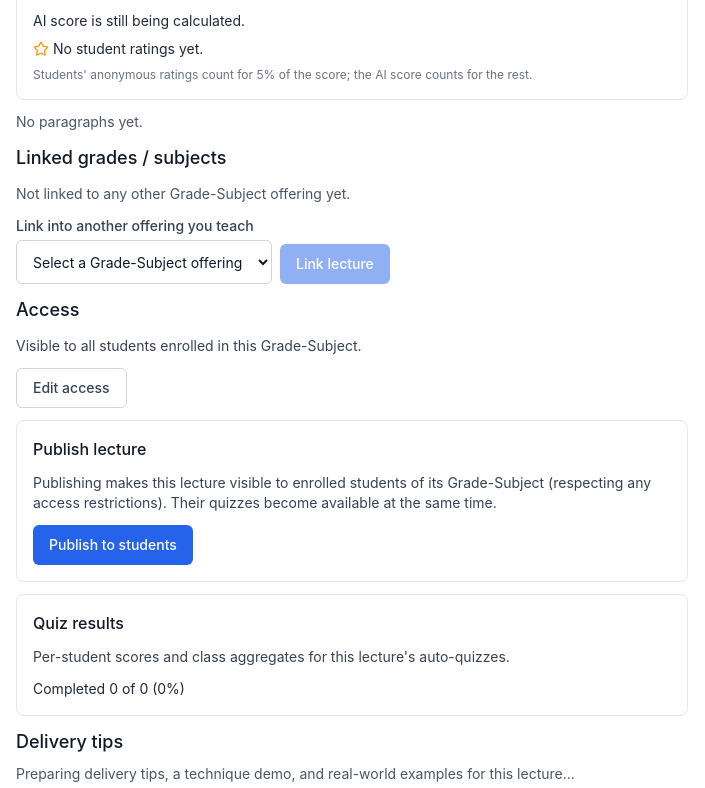
LectureAccessPanel (T-123) › shows an error state with retry when the roster fails to load
(page scrolled)
Click the button "Edit access" at coordinates (71, 388), box [16, 368, 126, 408]
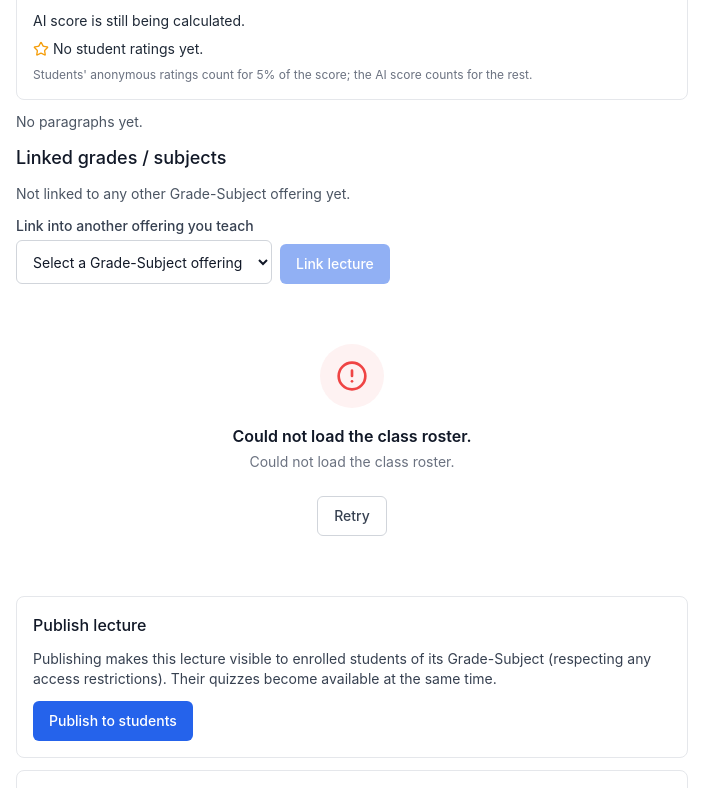
expect the button "Retry" is shown: met, box [317, 496, 387, 536]
